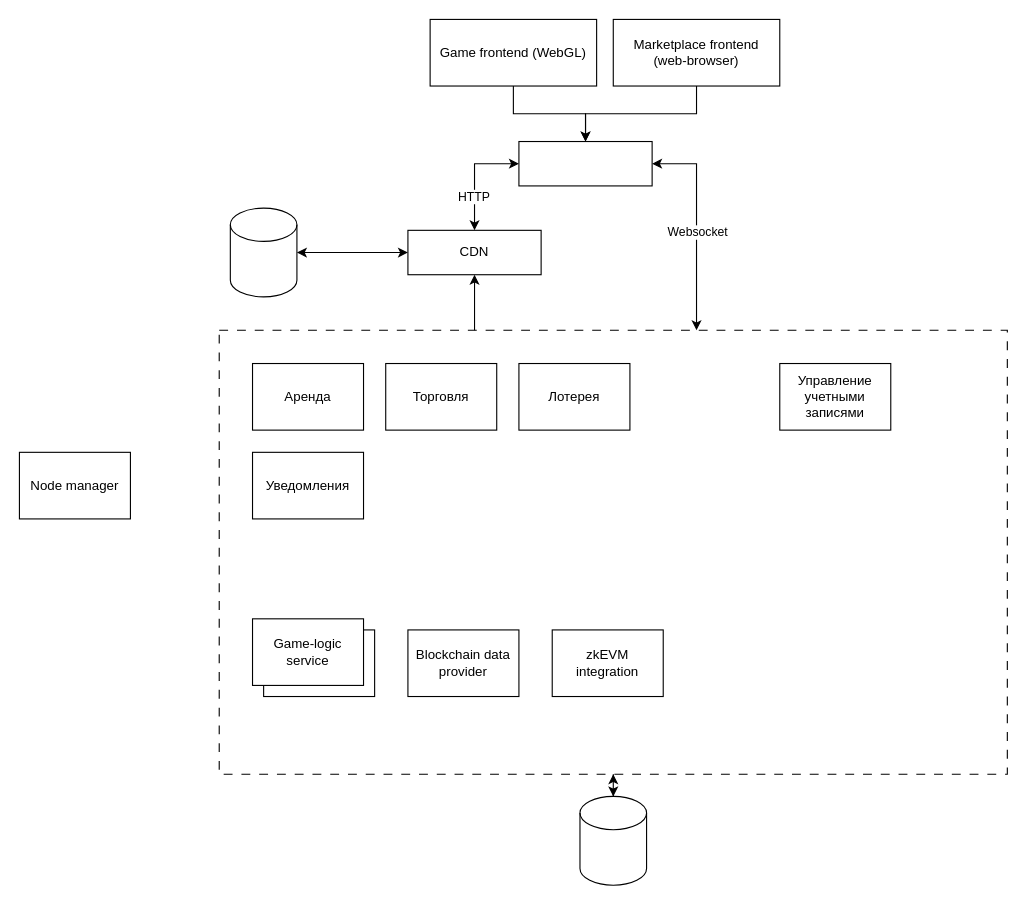
Some shapes in this 1027 by 905 pixel diagram are drawn without their labels. The centre of each missing label's shape, as x and y in pixels:
"IPFS" goes at point 613,840.
"Object Storage" goes at point 263,252.
"SSO" goes at point 585,163.
